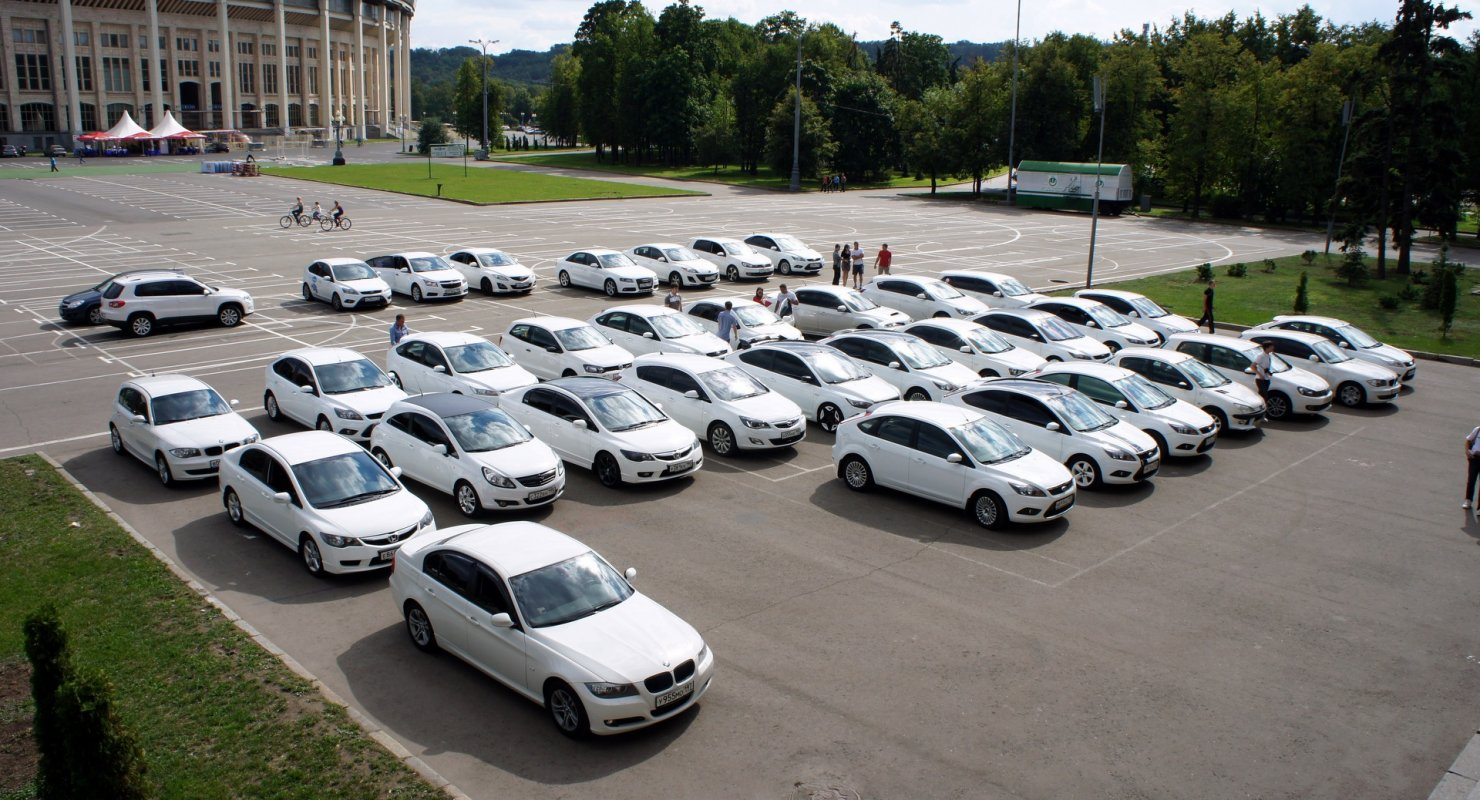Car: (389, 521, 715, 740), (219, 432, 436, 576), (833, 402, 1077, 529), (370, 393, 566, 518), (944, 379, 1161, 490), (497, 378, 703, 486), (619, 354, 806, 456), (1026, 362, 1218, 459), (108, 374, 261, 487), (726, 341, 901, 433), (1165, 334, 1333, 419), (263, 347, 407, 444), (1111, 349, 1267, 432), (1240, 328, 1402, 407), (1255, 313, 1417, 382), (822, 330, 978, 400), (387, 332, 536, 401), (99, 272, 256, 337), (498, 315, 634, 381), (904, 318, 1043, 379), (763, 285, 913, 336), (1026, 297, 1160, 352), (589, 304, 728, 357), (971, 310, 1110, 362), (59, 267, 184, 324), (1074, 288, 1199, 341), (683, 296, 804, 345), (859, 276, 986, 320), (366, 251, 468, 303), (301, 258, 393, 311), (557, 249, 657, 297), (445, 247, 538, 295), (937, 270, 1044, 309), (628, 243, 719, 288), (688, 237, 774, 281), (742, 232, 825, 275)
